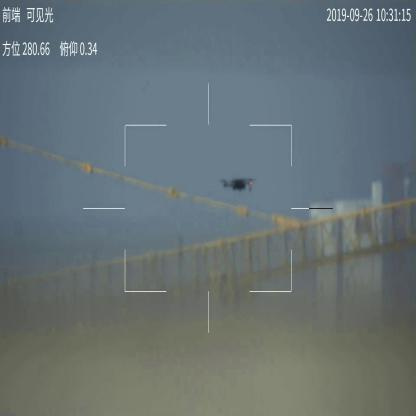uav: (219, 174, 260, 194)
